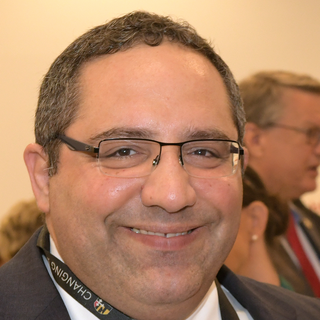eye: (95, 134, 147, 172), (182, 134, 232, 172)
